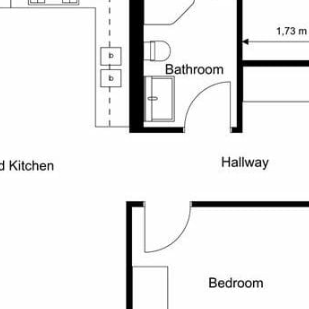door: (180, 77, 235, 146), (139, 195, 195, 257)
